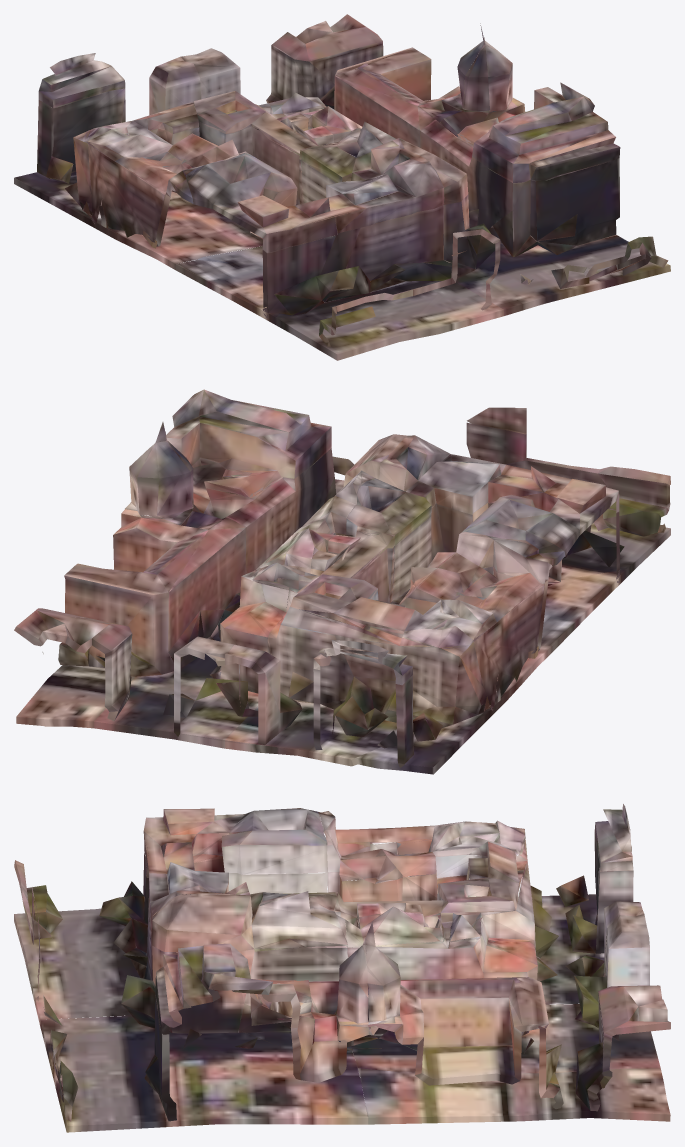
The picture shows the model from 3 angles, top to bottom: view 1: azimuth 30°, elevation 25°; view 2: azimuth 150°, elevation 25°; view 3: azimuth 270°, elevation 25°; orthographic projection. The views are drawn at different scales.
Parts seen in each view (by area): view 1: Mesh_0; view 2: Mesh_0; view 3: Mesh_0.
Part boxes in pixels (x1=…): Mesh_0: x1=14, y1=14, x2=670, y2=360; Mesh_0: x1=14, y1=389, x2=670, y2=774; Mesh_0: x1=14, y1=804, x2=670, y2=1132.
Bounding box in the file's own units: 133 × 55.38 × 165.
Materials: 1 (1 with a texture image).
